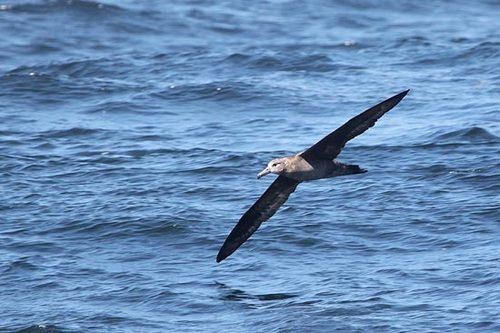bird: (215, 89, 409, 262)
